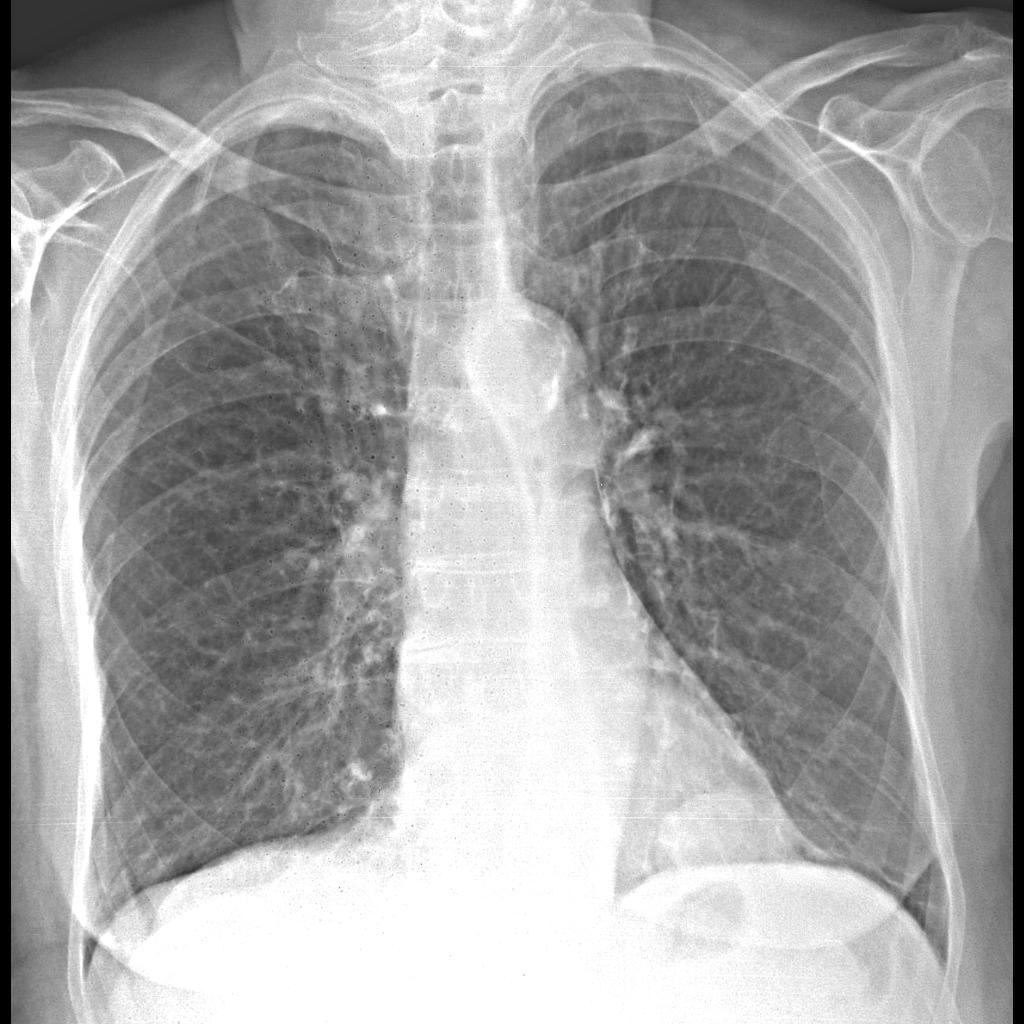Nodule: (651, 781, 767, 878)
